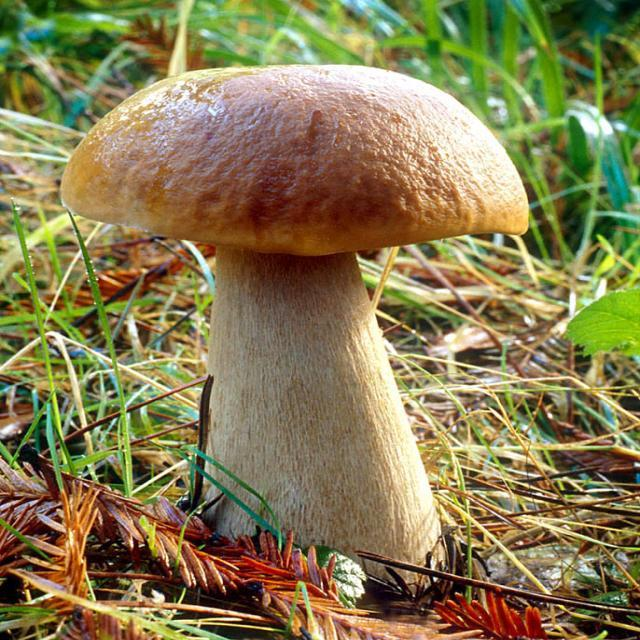Boletus: (66, 63, 525, 580)
